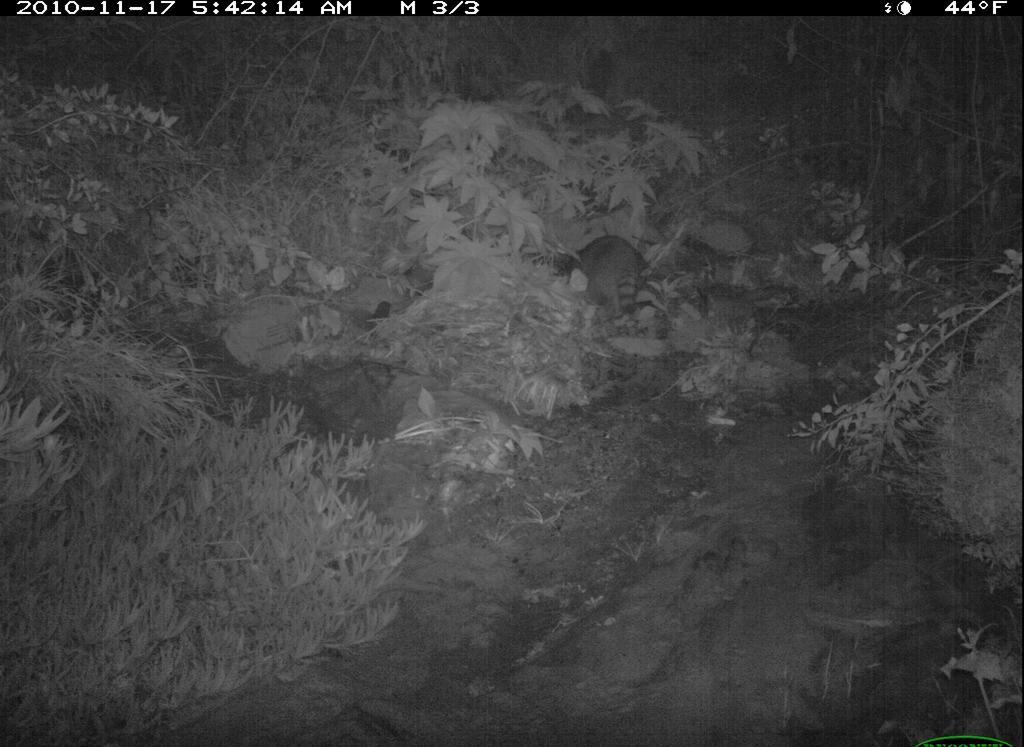raccoon: (568, 226, 648, 333)
